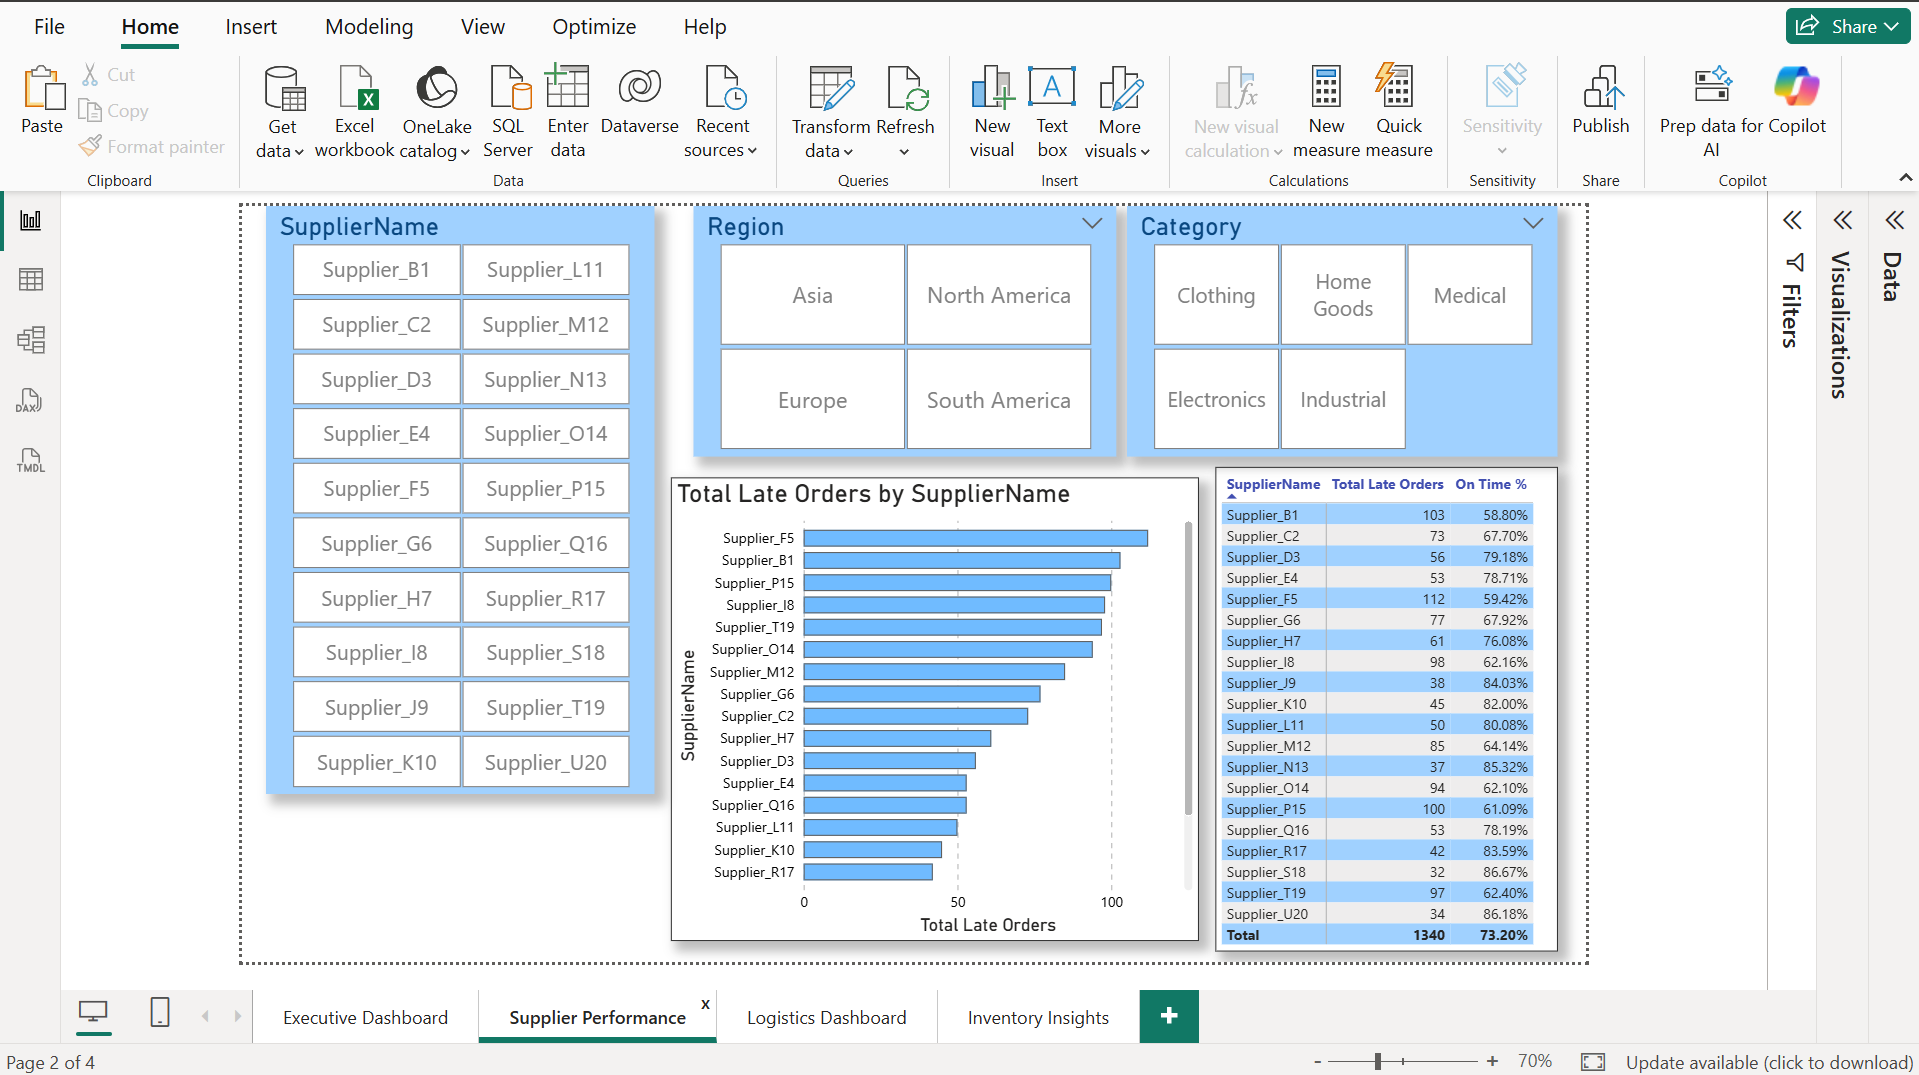

This screenshot's page, from the dashboard's own definition file:
{"tool":"powerbi","page":{"name":"Supplier Performance","canvas":[1280,720],"ordinal":1},"visuals":[{"type":"clusteredBarChart","fields":{"Category":["dim_suppliers.SupplierName"],"Y":["fact_orders.Total Late Orders"]},"box":[408.6,258.6,502.9,441.4],"z":0},{"type":"pivotTable","fields":{"Rows":["dim_suppliers.SupplierName"],"Values":["fact_orders.Total Late Orders","fact_orders.On Time %"]},"box":[927.1,248.6,325.7,461.4],"z":1000},{"type":"slicer","fields":{"Values":["dim_suppliers.Region"]},"box":[430,0,402.9,238.6],"z":1001},{"type":"slicer","fields":{"Values":["dim_suppliers.SupplierName"]},"box":[22.9,0,370,560],"z":1002},{"type":"slicer","fields":{"Values":["dim_products.Category"]},"box":[842.9,0,410,238.6],"z":1003}]}

Visuals, with their boxes on the page's 1280x720 design canvas (x1, y1, x2, y2). These are canvas units, not pixel positions in the 1919x1075 screenshot, which may show the page scaled, cropped or inside an application window:
clusteredBarChart - dim_suppliers.SupplierName x fact_orders.Total Late Orders: box=[409, 259, 912, 700]
pivotTable - dim_suppliers.SupplierName x fact_orders.Total Late Orders: box=[927, 249, 1253, 710]
slicer - dim_suppliers.Region: box=[430, 0, 833, 239]
slicer - dim_suppliers.SupplierName: box=[23, 0, 393, 560]
slicer - dim_products.Category: box=[843, 0, 1253, 239]
